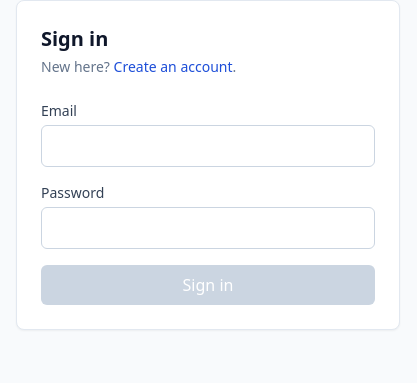
Test: LoginPage › shows a friendly message on 401
This screenshot has width=417, height=383.
Type "me@example.com" into the field labelled "Email" at (208, 146), box [41,125,375,167]
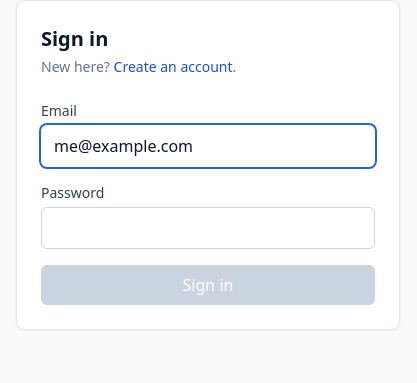
Type "hunter2hunter2" into the password field labelled "Password" at (208, 228), box [41,207,375,249]
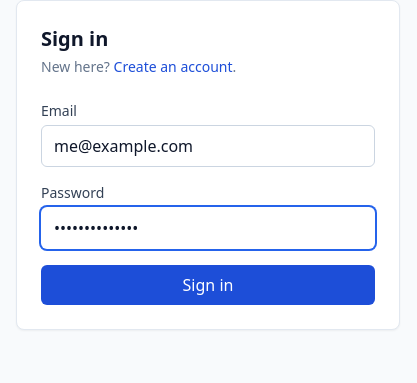
Click the button "Sign in" at (208, 285), box [41,265,375,305]
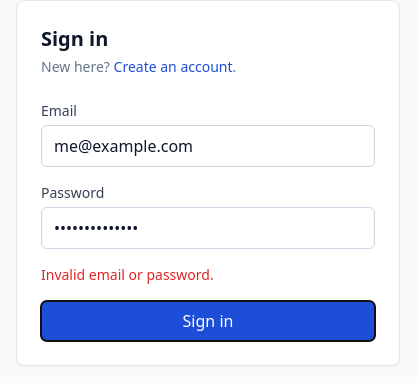
Now the message shows "Invalid email or password", box [41,265,214,284]
